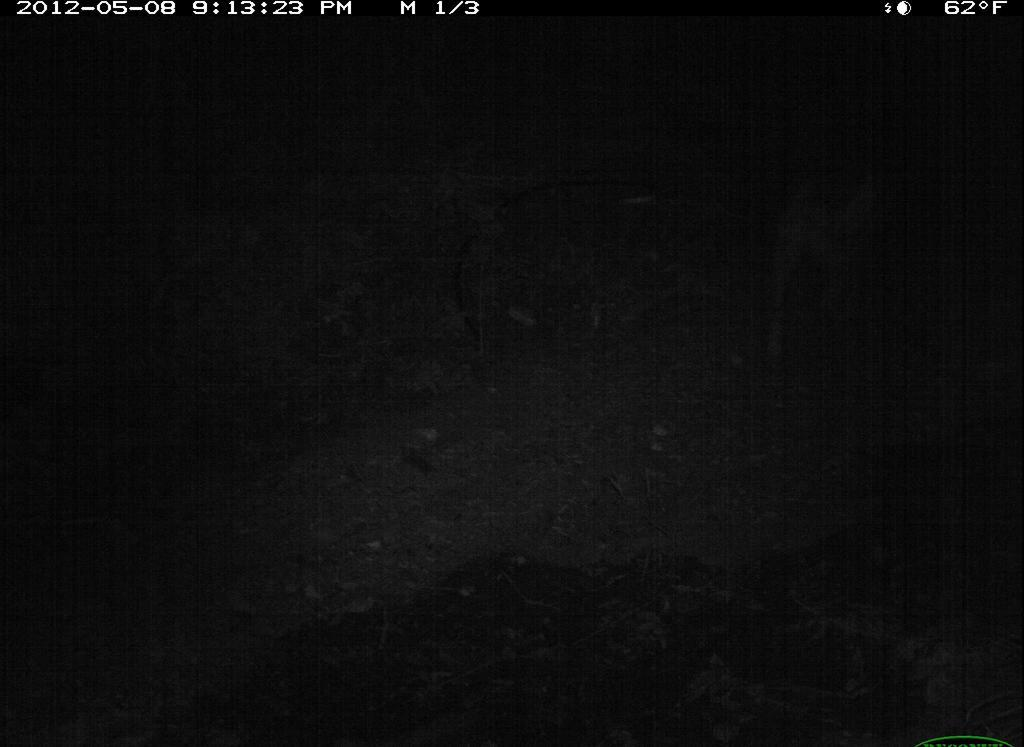dog: (754, 157, 894, 369)
